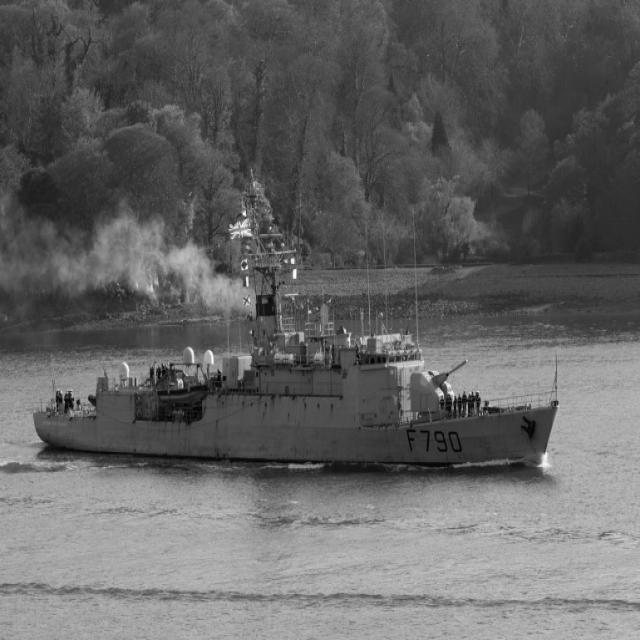Fragata: (28, 173, 563, 475)
